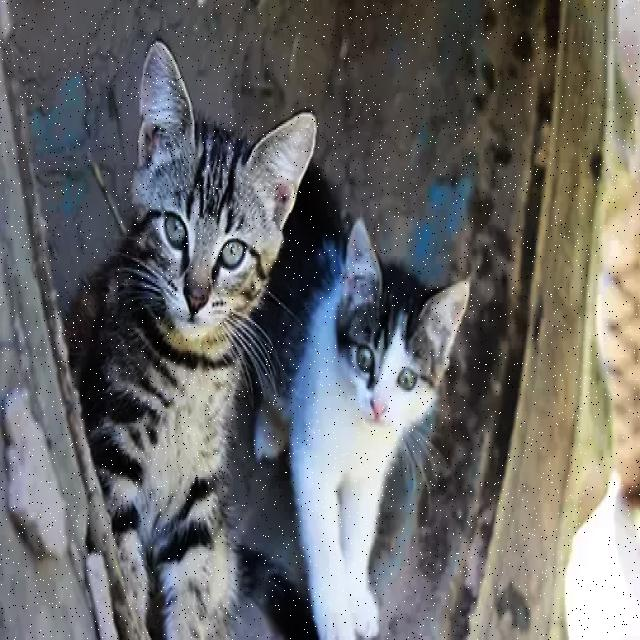cat: (68, 42, 316, 638), (254, 165, 470, 638)
